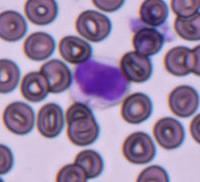M: (73, 56, 129, 106)
